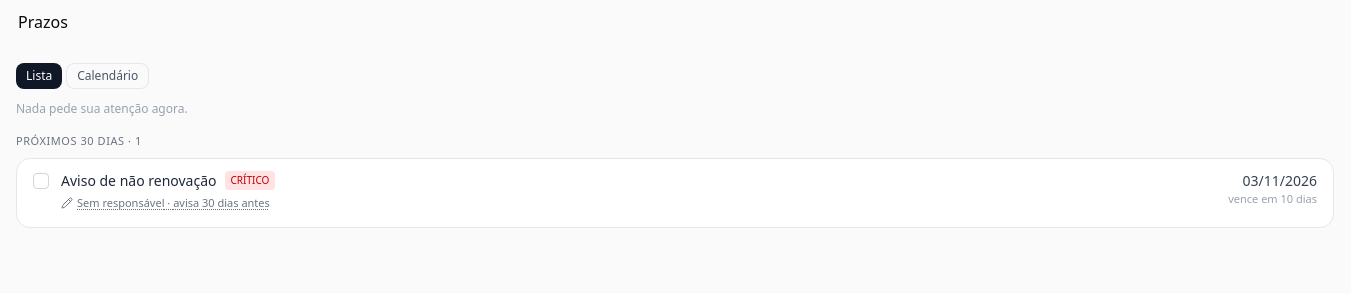
Radar page › restores the list and shows the error when the tick fails
Expected: the text "Aviso de não renovação" is shown, [61,170,216,190]
Click the button titled "Marcar como feito": (41, 180) [33,172,49,188]
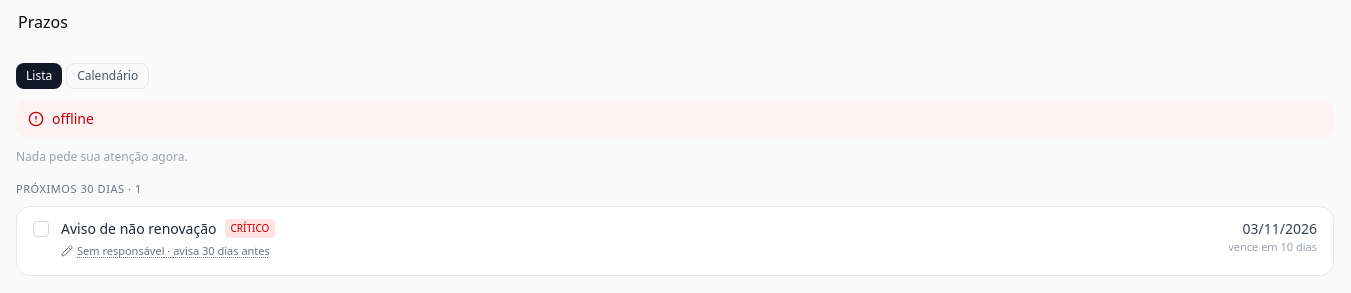
Expected: the text "Aviso de não renovação" is shown, [61,218,216,238]
Result: the text "offline" is shown at [16,101,1334,137]
